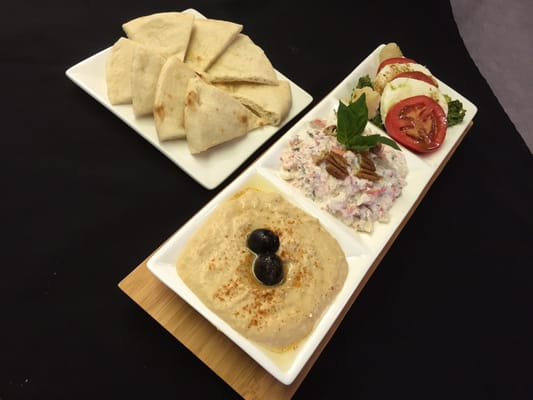soup: (203, 32, 293, 128), (183, 79, 260, 155), (152, 57, 205, 142)
